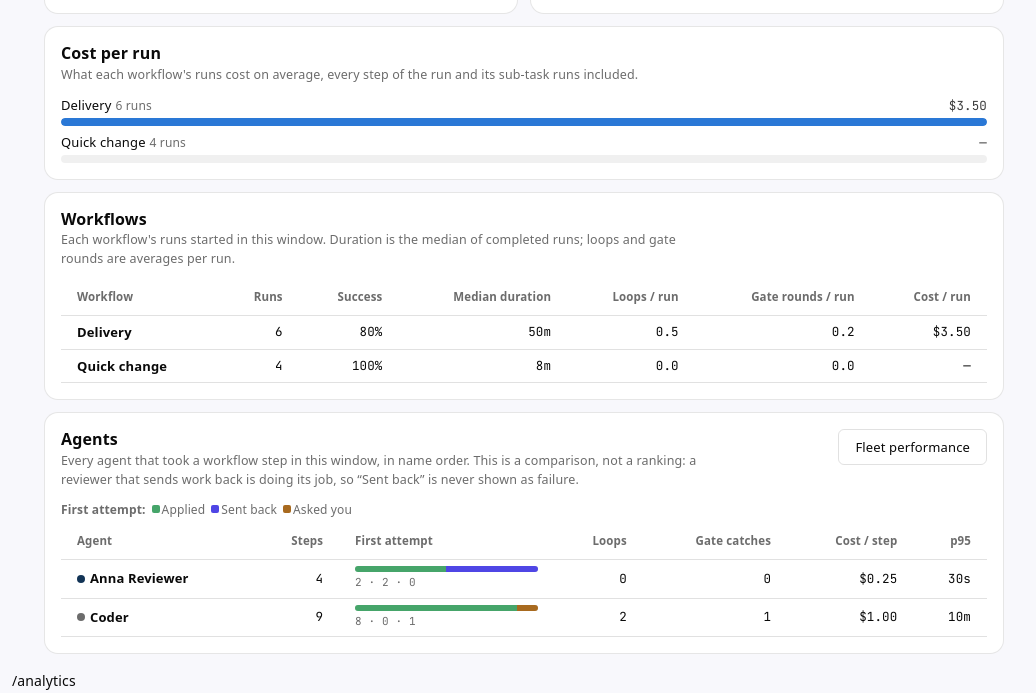
Test case: Analytics — row navigation › an agent row opens its performance tab
(page scrolled)
Click the text "Coder" at point(524, 617), box [61,598,987,637]
(page scrolled)
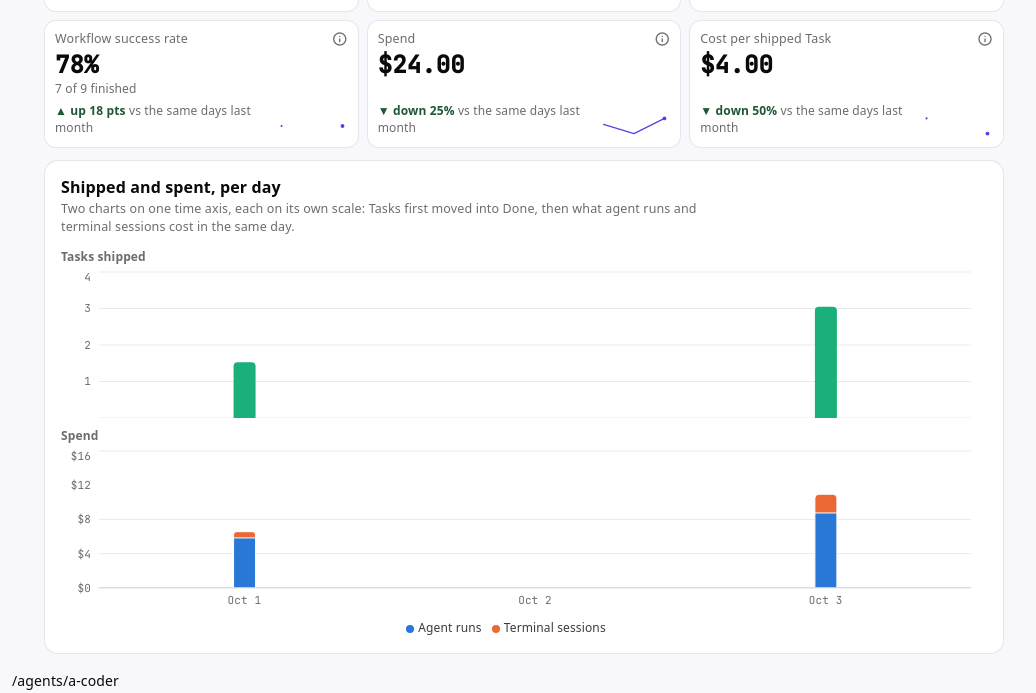
Result: the text with test id "path" reads "/agents/a-coder" at [12,672,119,690]
